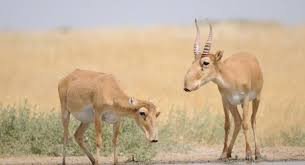saiga: (181, 17, 265, 160), (56, 66, 161, 165)
